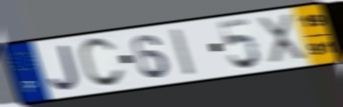5: (217, 16, 262, 72)
6: (131, 34, 171, 80)
C: (77, 35, 127, 89)
I: (169, 26, 198, 78)
J: (48, 43, 81, 92)
X: (255, 12, 310, 65)
